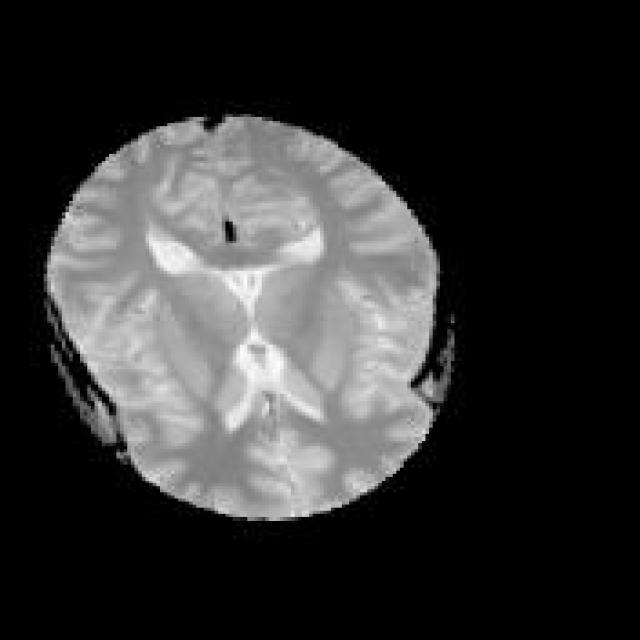parkinson: (40, 108, 458, 520)
